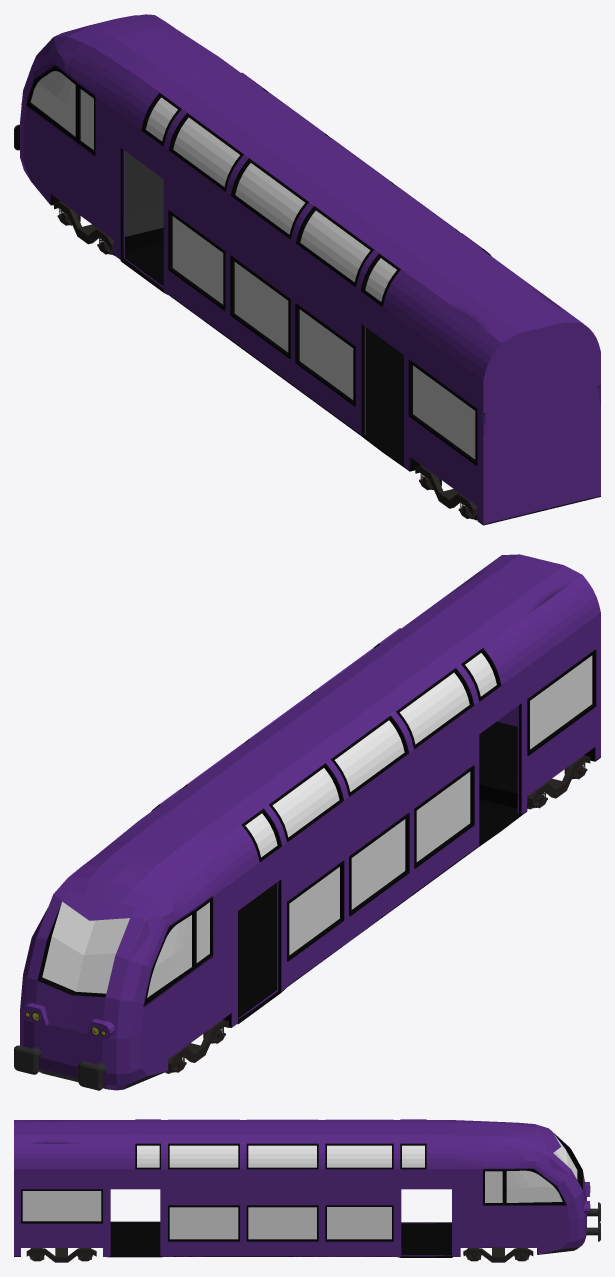
Rendered from Vonat.fbx.
3 renders of one model, top to bottom at view 1: azimuth 30°, elevation 25°; view 2: azimuth 150°, elevation 25°; view 3: azimuth 270°, elevation 25°, orthographic. The views are drawn at different scales.
Visible parts, largest first — view 1: Vonat, Talaj, forgoVazBack|vaz|Dupli|4, forgoVazFront|vaz|Dupli|4; view 2: Vonat, Talaj, forgoVazBack|vaz|Dupli|4, forgoVazFront|vaz|Dupli|4; view 3: Vonat, Talaj, forgoVazBack|vaz|Dupli|4, forgoVazFront|vaz|Dupli|4.
Boxes of the visible parts, x1,y1,x2,y2 form: Vonat: (14,14,600,525); Talaj: (31,151,600,525); forgoVazBack|vaz|Dupli|4: (415,465,477,515); forgoVazFront|vaz|Dupli|4: (54,201,113,251); Vonat: (14,554,600,1090); Talaj: (223,721,600,1024); forgoVazBack|vaz|Dupli|4: (528,755,590,805); forgoVazFront|vaz|Dupli|4: (168,1019,228,1070); Vonat: (14,1119,600,1257); Talaj: (14,1221,452,1257); forgoVazBack|vaz|Dupli|4: (26,1248,96,1262); forgoVazFront|vaz|Dupli|4: (463,1248,533,1262).
Size of the model in its own units: 823 by 1258 by 5721.
Materials: 14 (1 with a texture image).
